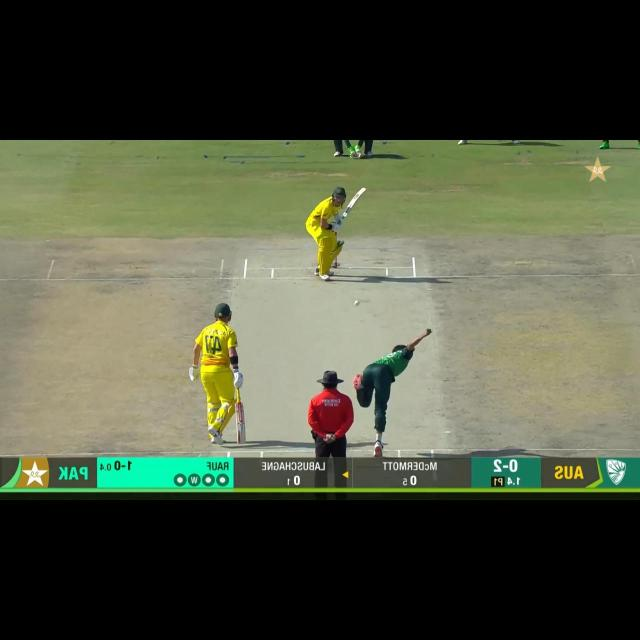bat: (341, 186, 366, 219), (233, 402, 250, 448)
toe: (356, 186, 366, 197), (234, 437, 247, 445)
